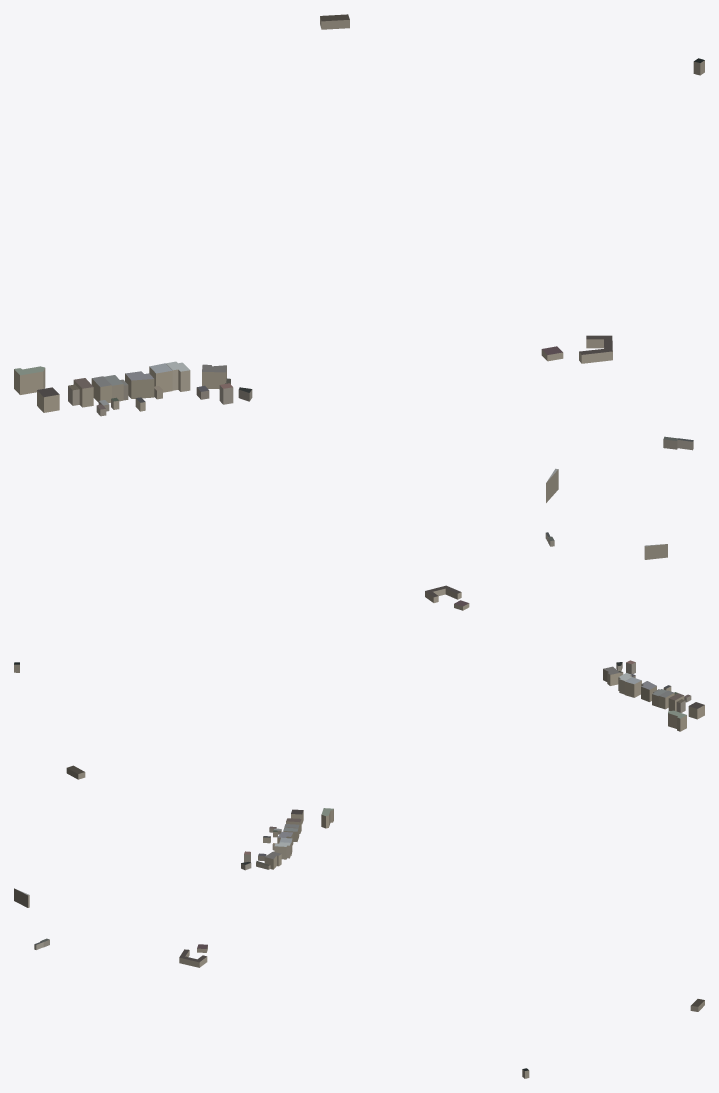
The picture shows the model from 3 angles, top to bottom: view 1: azimuth 30°, elevation 25°; view 2: azimuth 150°, elevation 25°; view 3: azimuth 270°, elevation 25°; orthographic projection. The views are drawn at different scales.
Parts seen in each view (by area): view 1: tuile; view 2: tuile; view 3: tuile.
Part boxes in pixels (<box>): tuile: <box>14,14,704,502</box>; tuile: <box>14,532,704,779</box>; tuile: <box>14,808,704,1078</box>.
Size of the model in its own units: 506 by 16.16 by 573.
